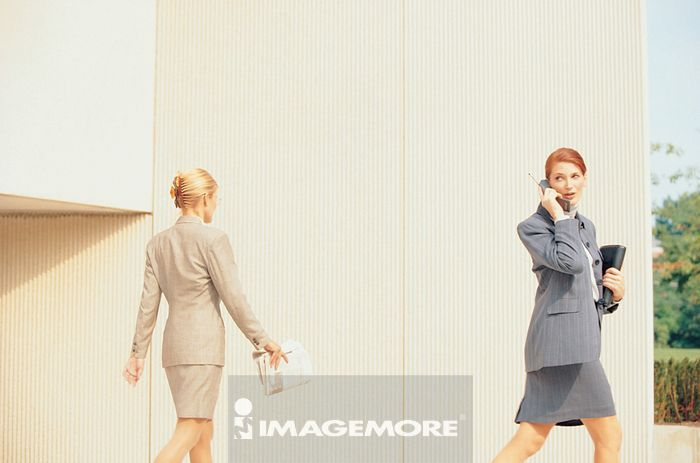talk: (539, 167, 582, 217)
